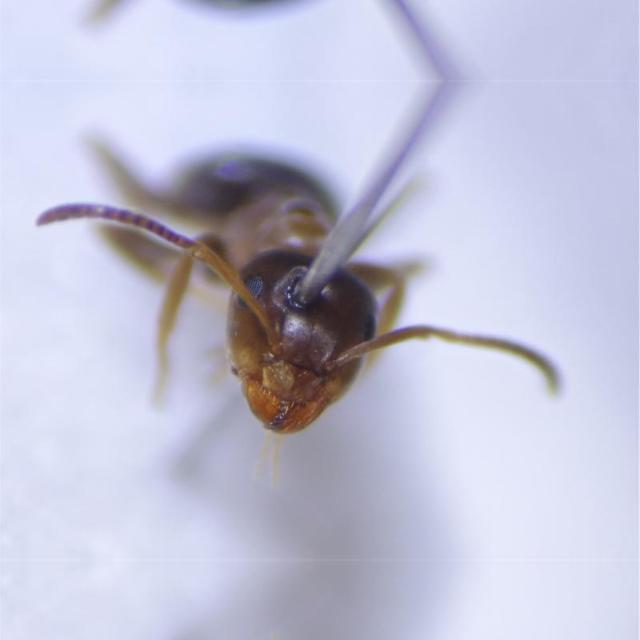Lasius: (60, 118, 558, 446)
